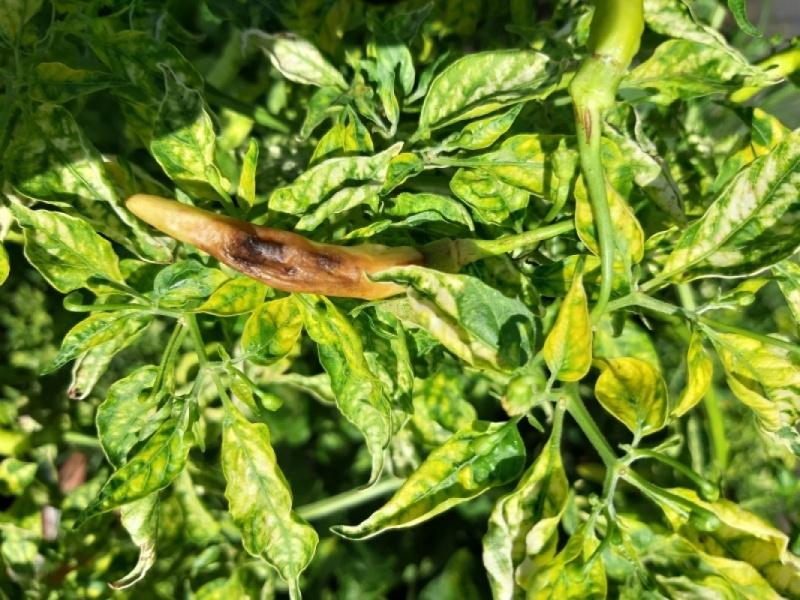antraknosa: (126, 190, 450, 304)
